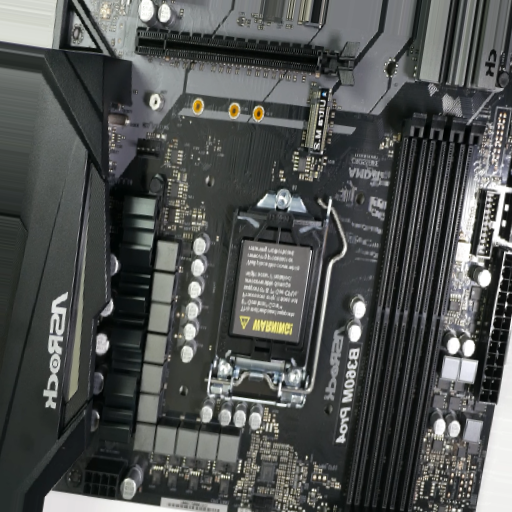CPU: (208, 186, 328, 409)
GPU: (136, 25, 359, 86)
MOTHERBOARD: (1, 1, 510, 512)
RAM: (342, 113, 487, 511)
SSD: (301, 87, 329, 149)
